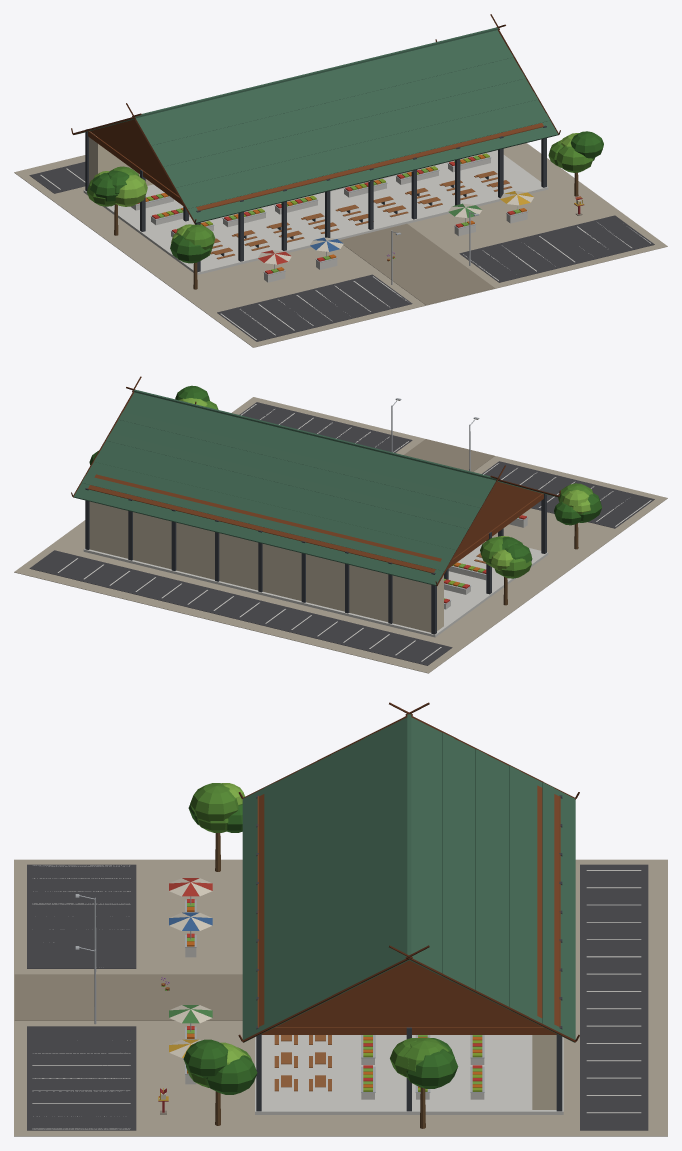
The model's file is market.glb.
The picture shows the model from 3 angles, top to bottom: view 1: azimuth 30°, elevation 25°; view 2: azimuth 150°, elevation 25°; view 3: azimuth 270°, elevation 25°; orthographic projection. The views are drawn at different scales.
Parts seen in each view (by area): view 1: body; view 2: body; view 3: body.
Part boxes in pixels (x1,y1,x2,y2): body: [14, 14, 667, 347]; body: [14, 376, 667, 673]; body: [14, 702, 667, 1136].
Size of the model in its own units: 50.27 by 14.28 by 47.9.
